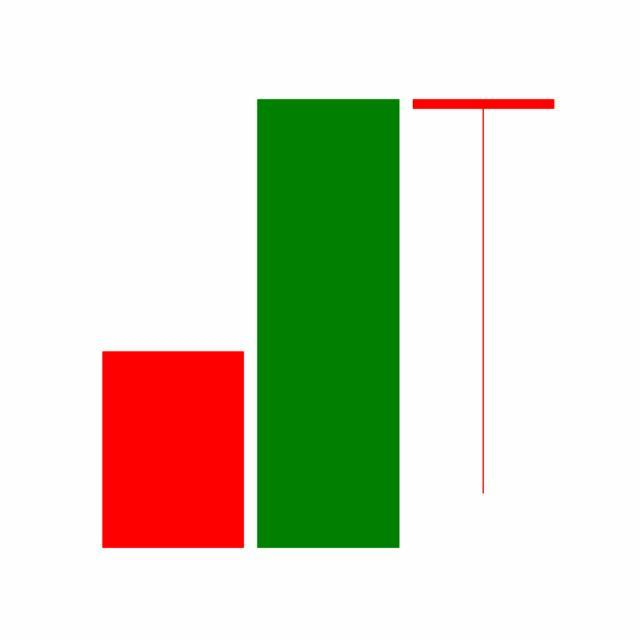Hammer: (406, 96, 562, 499)
